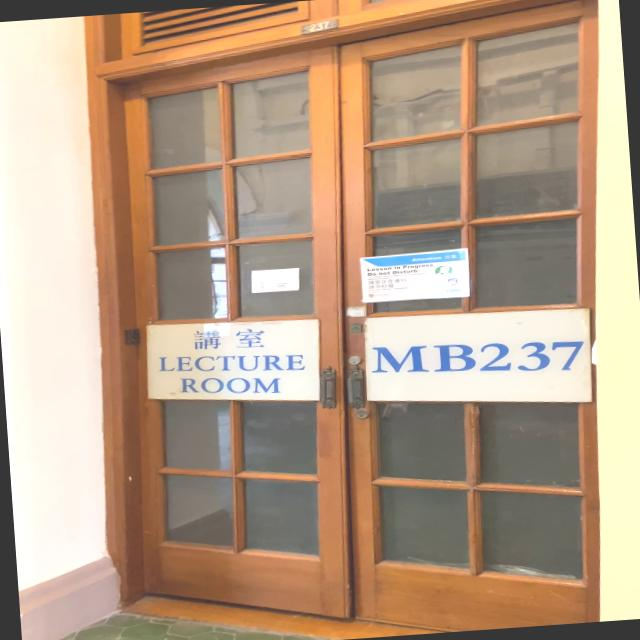room237: (296, 18, 345, 34)
room237Window: (372, 326, 586, 390)
